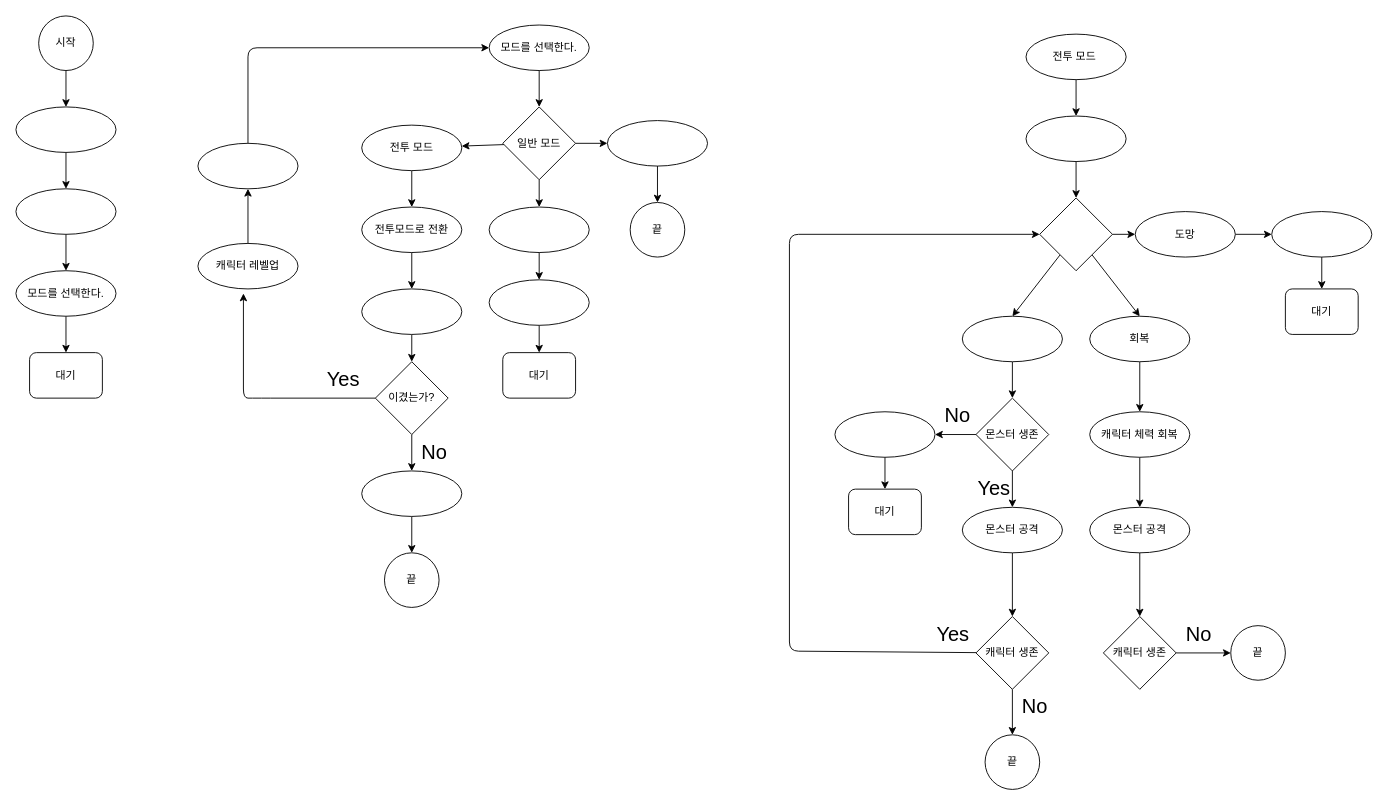
The diagram is 1388 pixels wide and 805 high, and some of its shapes have lost their labels. Each missing label, with the box of its shape:
게임 종료: (607, 120, 708, 166)
공격: (961, 315, 1062, 362)
모드(버튼): (1039, 197, 1112, 271)
모험 시작하기 버튼을 누른다.: (15, 188, 116, 234)
몬스터 생성: (1025, 115, 1126, 162)
몬스터와 대결한다.: (361, 288, 462, 334)
스탯 상승: (197, 142, 298, 189)
일반 모드로 전환: (1271, 211, 1372, 257)
일반모드로 전환: (834, 411, 935, 457)
캐릭터 닉네임을 정한다.: (15, 106, 116, 152)
캐릭터 사망: (361, 470, 462, 516)
캐릭터 체력을 회복한다.: (488, 279, 589, 325)
휴식 모드: (488, 206, 589, 253)
